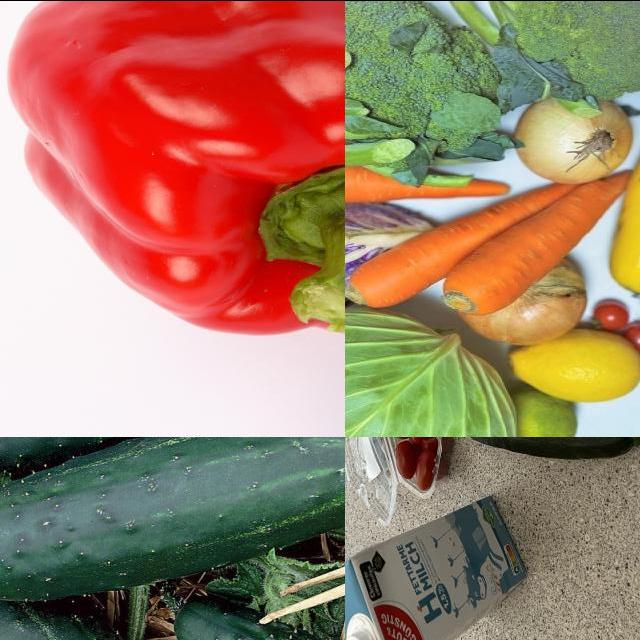bell_pepper: (1, 1, 346, 355)
cabbage: (346, 307, 512, 437)
carrot: (346, 164, 574, 307), (442, 159, 634, 317), (346, 164, 509, 204)
cucumber: (1, 437, 346, 605), (1, 485, 169, 640), (1, 437, 346, 486), (169, 587, 346, 640)
onion: (515, 87, 632, 187), (455, 259, 588, 345)
tomato: (346, 437, 461, 531)
zucchini: (453, 437, 640, 476)
